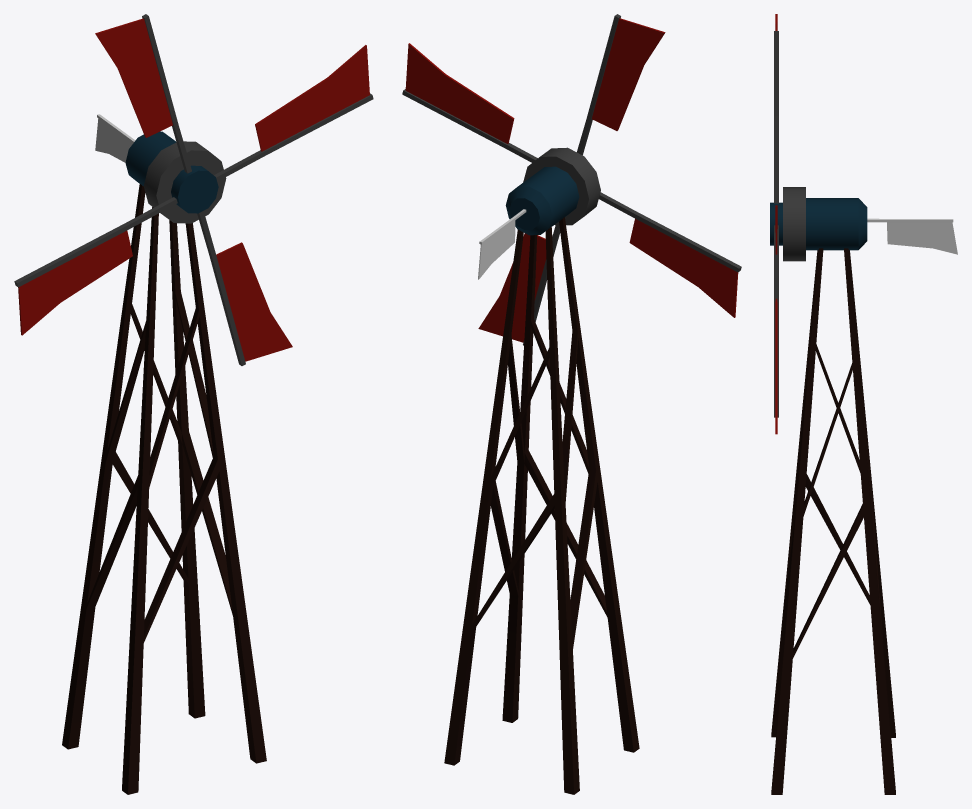
Rendered from Windmill.fbx.
3 renders of one model, left to right at view 1: azimuth 30°, elevation 25°; view 2: azimuth 150°, elevation 25°; view 3: azimuth 270°, elevation 25°, orthographic. The views are drawn at different scales.
Parts seen in each view (by area): view 1: Mesh; view 2: Mesh; view 3: Mesh.
Part boxes in pixels (x1=…): Mesh: x1=14, y1=14, x2=373, y2=794; Mesh: x1=402, y1=14, x2=741, y2=794; Mesh: x1=770, y1=14, x2=957, y2=794.
Bounding box in the file's own units: 1695 × 3509 × 840.
